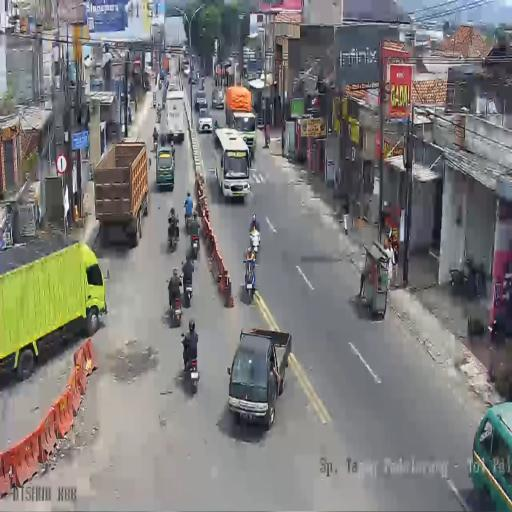3: (0, 242, 109, 389), (94, 138, 149, 247), (224, 84, 255, 151), (165, 88, 185, 143)
car: (228, 328, 292, 430), (155, 145, 175, 190), (197, 106, 213, 133), (194, 92, 208, 112), (212, 88, 224, 110), (182, 59, 191, 77), (168, 82, 178, 94), (191, 70, 200, 83)
truck: (182, 340, 200, 392), (168, 282, 184, 328), (182, 264, 194, 305), (167, 215, 179, 251), (190, 230, 199, 260), (153, 134, 158, 155), (201, 76, 205, 90)
